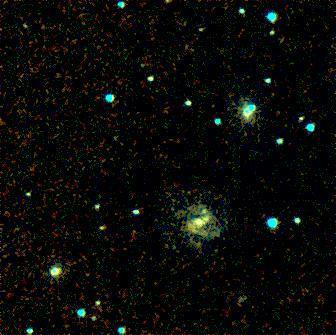star: (189, 200, 219, 230)
